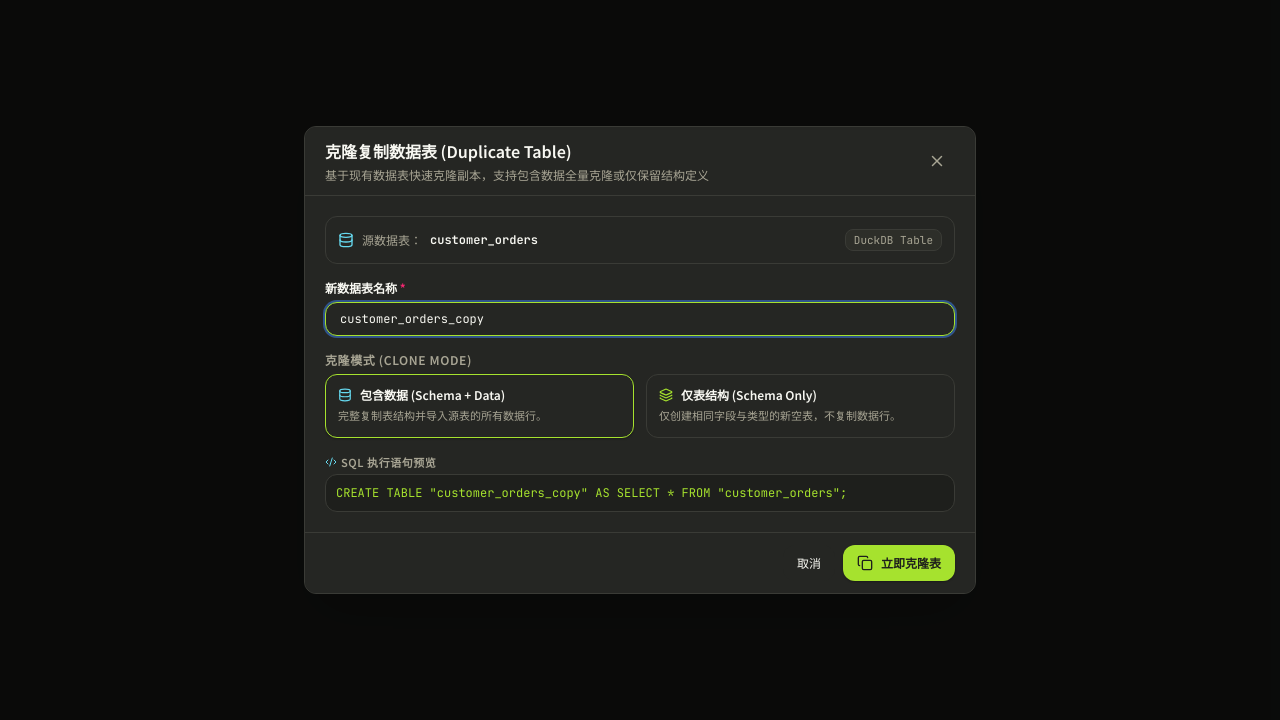
Test: DuplicateTableModal UI/UX enhancements › renders source table, clone mode options, and live SQL preview
The width and height of the screenshot is (1280, 720).
Expected: the heading "克隆复制数据表 (Duplicate Table)" is shown, [325, 139, 572, 163]
Expected: the text "customer_orders" is shown, [430, 232, 538, 248]
Note: Switch to Schema only
Click the text "仅表结构 (Schema Only)" at (749, 395), box [681, 387, 817, 403]
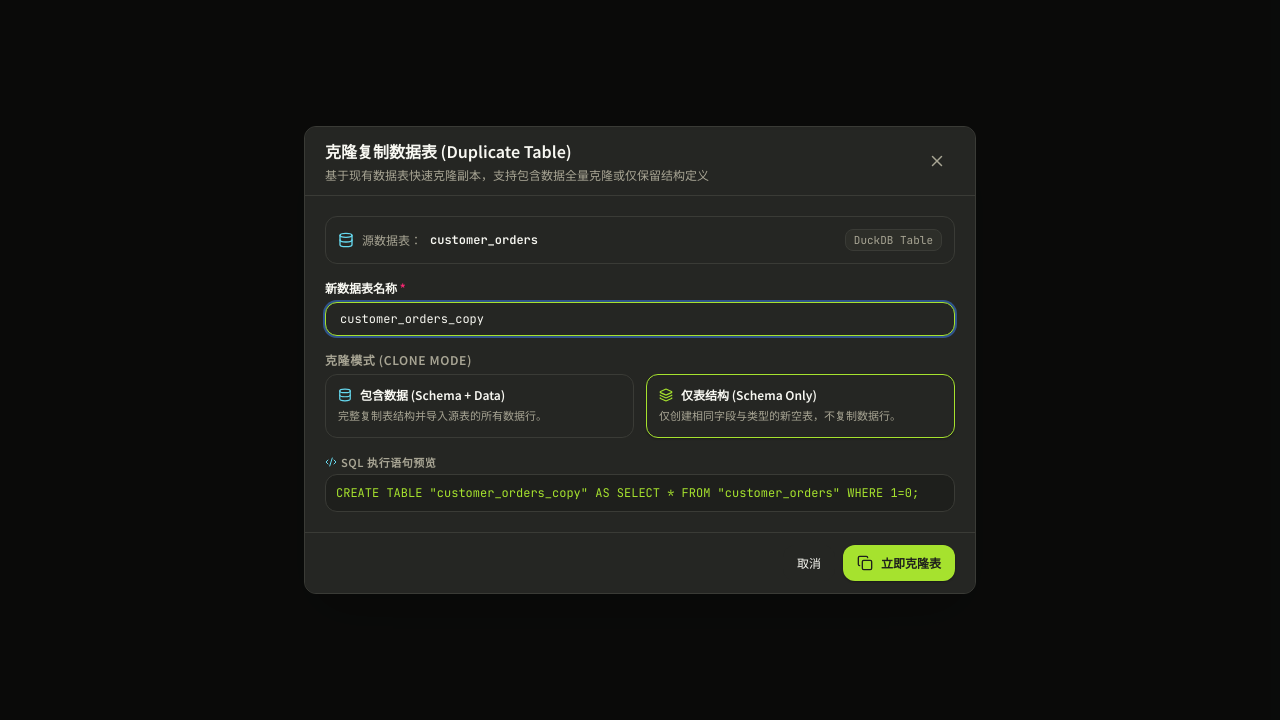
Expected: the text "WHERE 1=0;" is shown, [336, 485, 919, 501]
